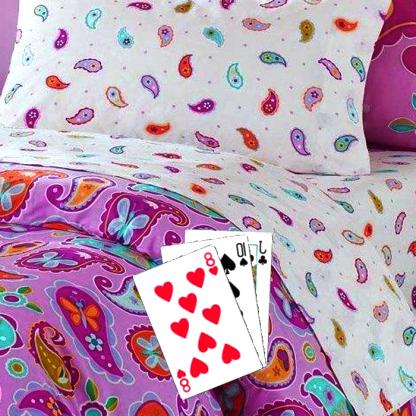10S: (235, 239, 251, 267)
8H: (203, 249, 221, 277), (176, 366, 194, 393)
JC: (258, 237, 270, 266)
